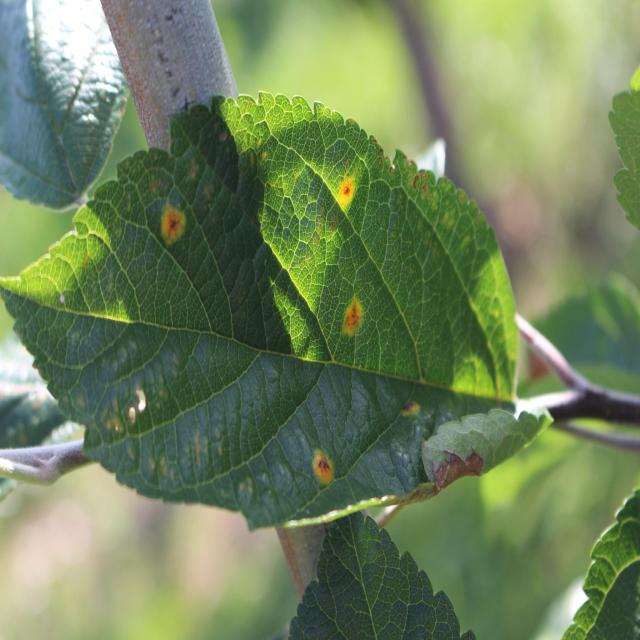Rust: (332, 151, 367, 223), (302, 440, 349, 492), (344, 277, 375, 355), (155, 195, 198, 247), (391, 393, 427, 438)
